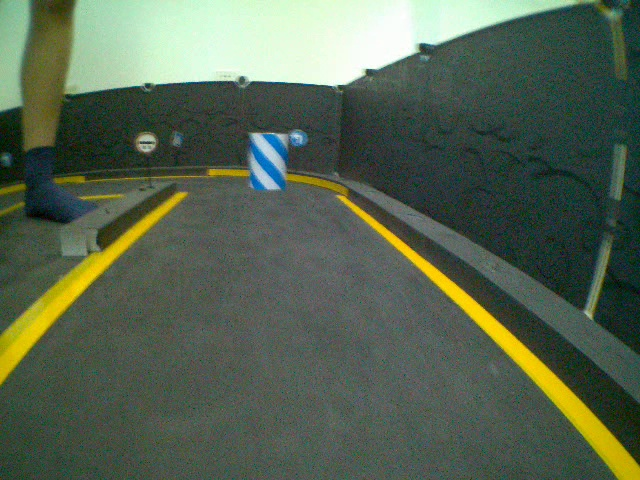bucket: (246, 130, 289, 192)
